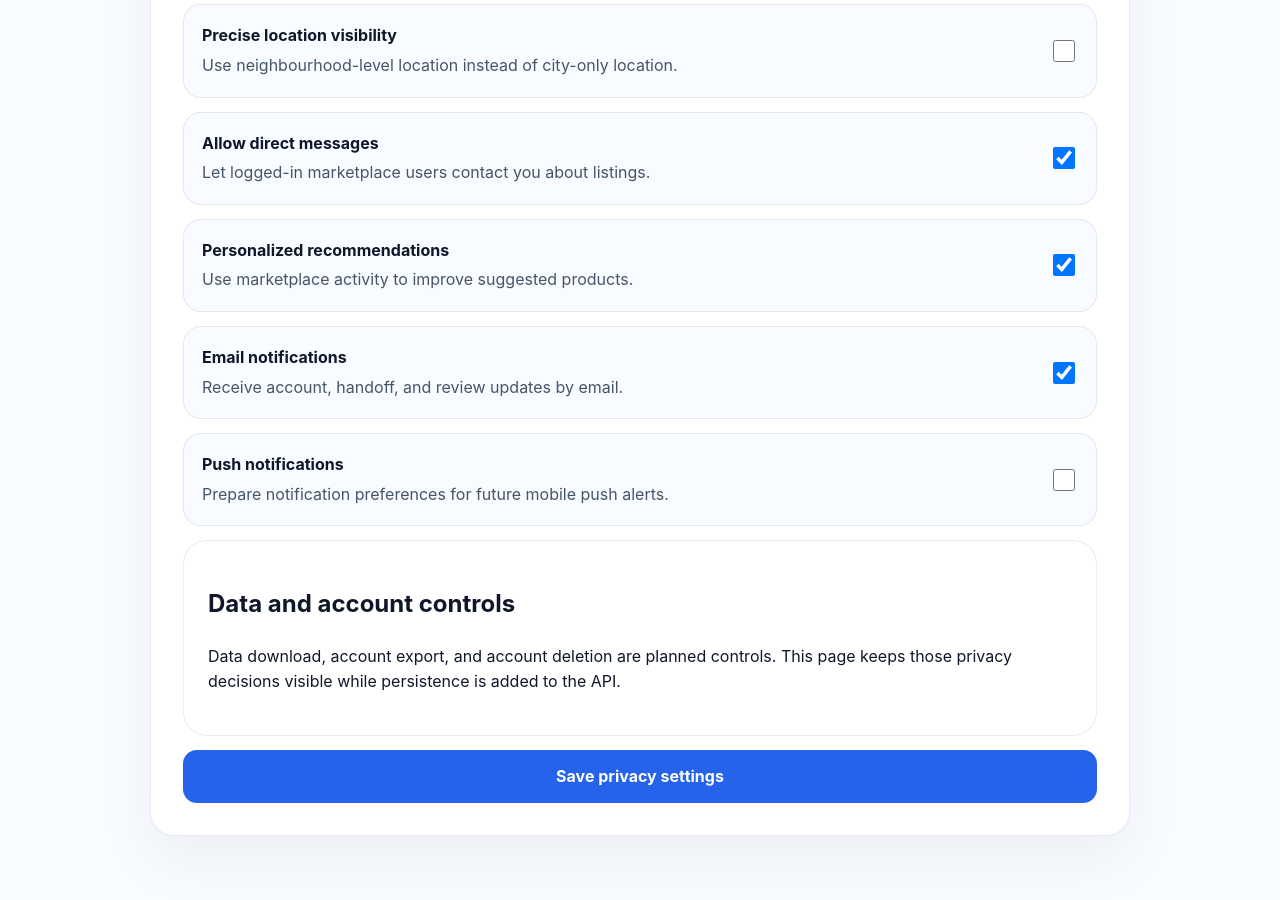
privacy settings › saves privacy settings locally with success feedback
(page scrolled)
Click the button "Save privacy settings" at point(640, 777), box [183, 750, 1097, 803]
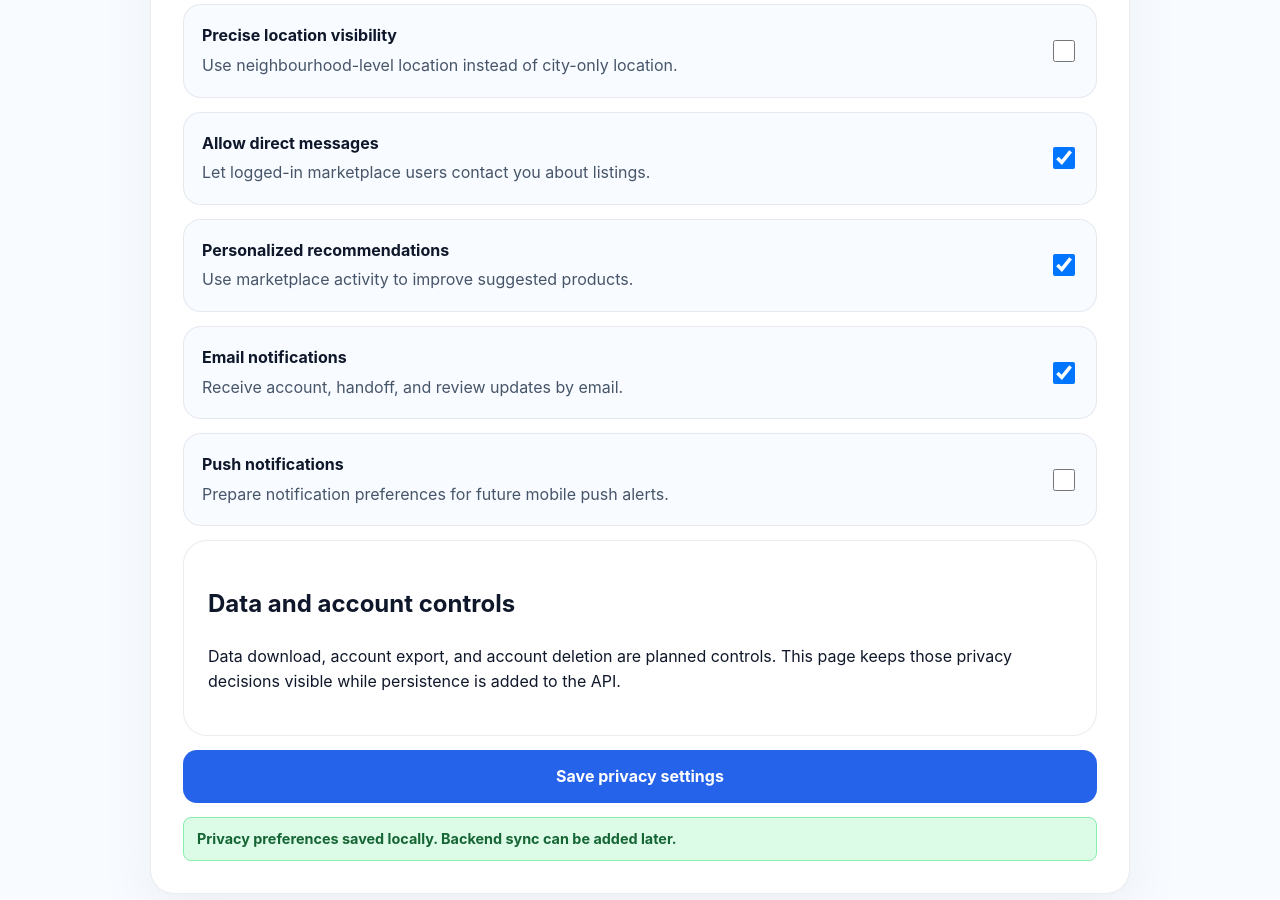
Expected: the text "Privacy preferences saved locally. Backend sync can be added later." is shown, [183, 817, 1097, 861]
